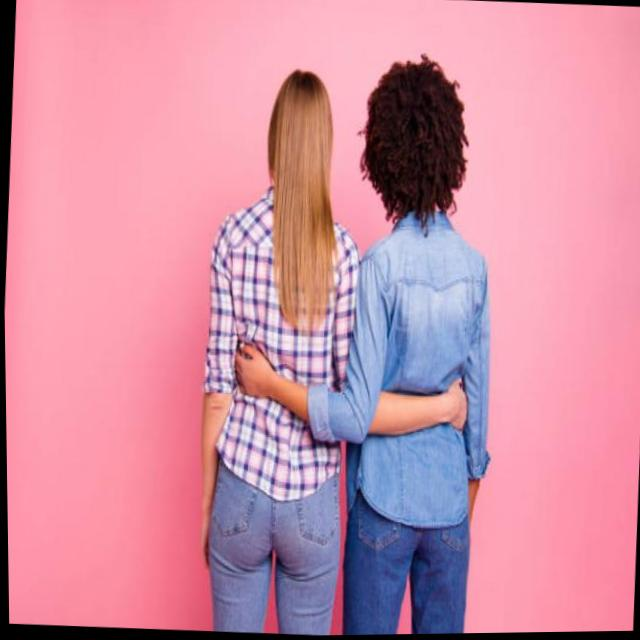no helmet: (351, 55, 477, 224), (248, 54, 357, 227)
